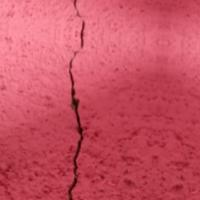crack: (47, 0, 105, 199)
